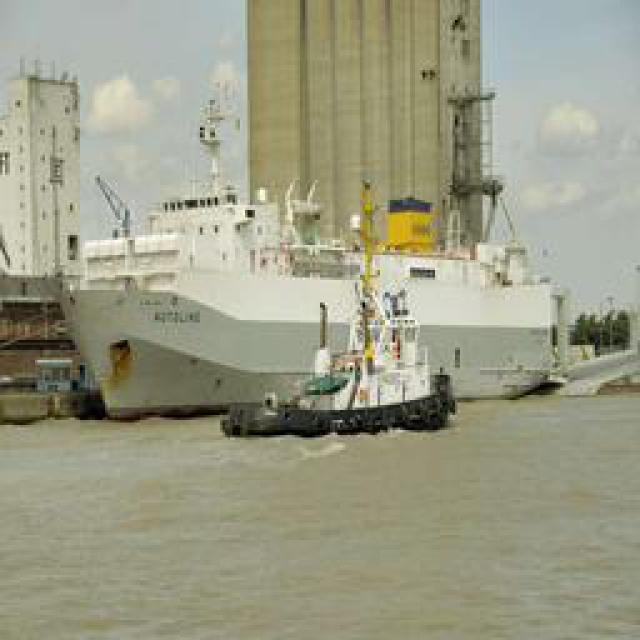Ship: (70, 195, 540, 425)
